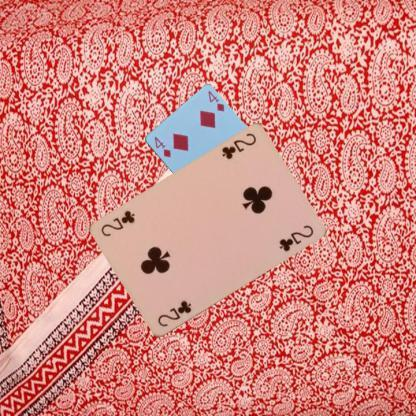2c: (220, 130, 258, 161), (155, 298, 192, 329)
4d: (151, 134, 173, 158)
